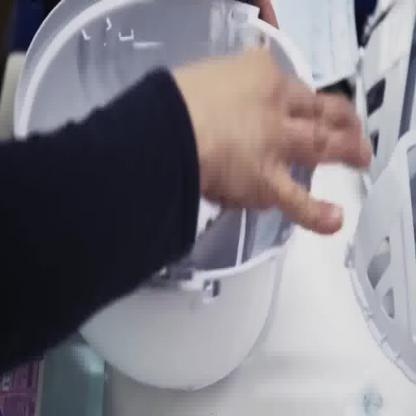helmet: (11, 0, 320, 394)
